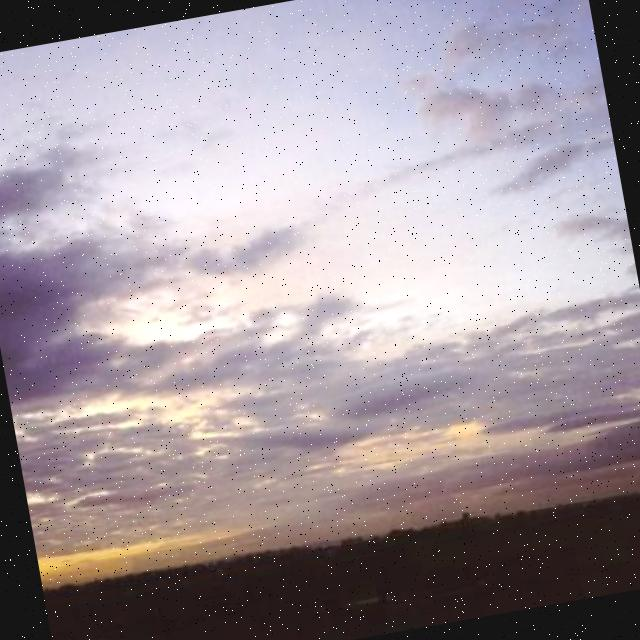Sc: (1, 18, 640, 554)
